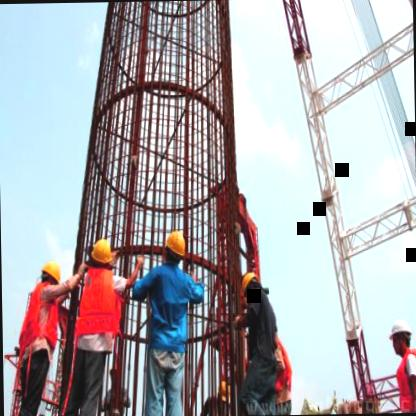helmet: (160, 226, 190, 270), (386, 314, 413, 358), (87, 235, 115, 275), (239, 268, 266, 301), (38, 261, 62, 294)
